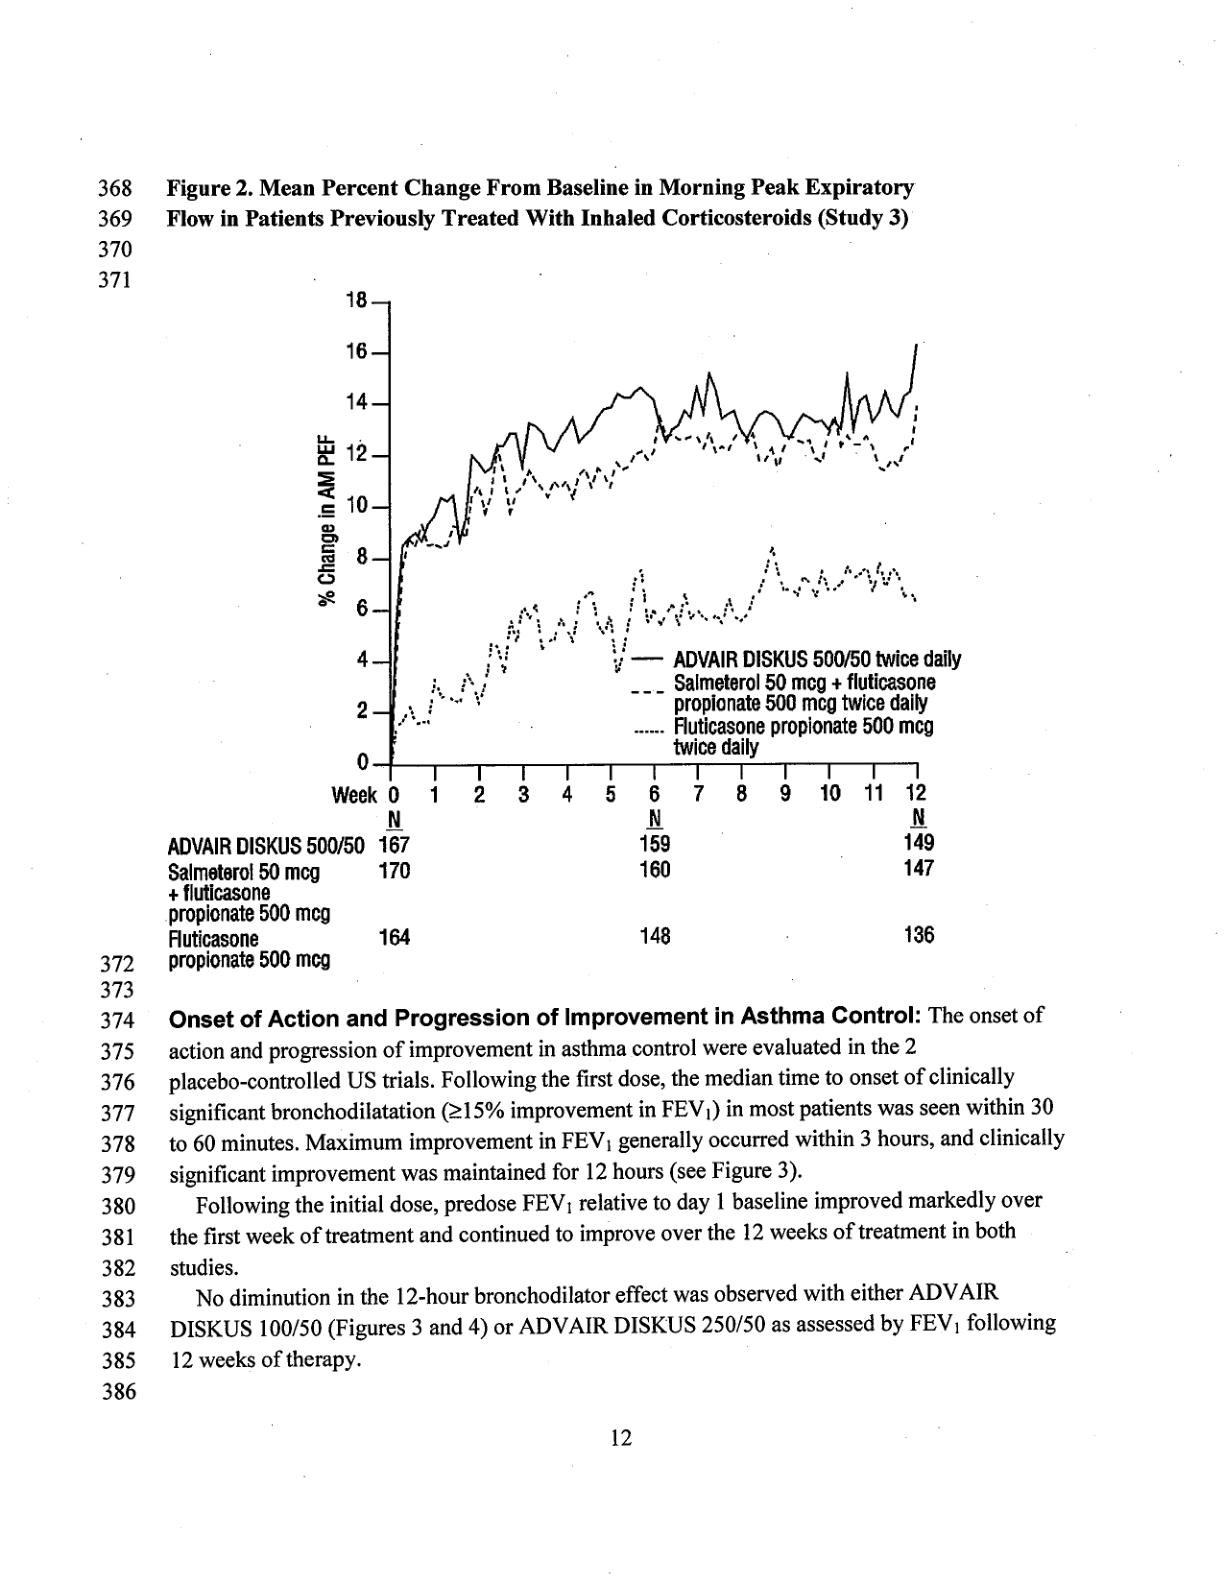nolines: (165, 834, 939, 969)
